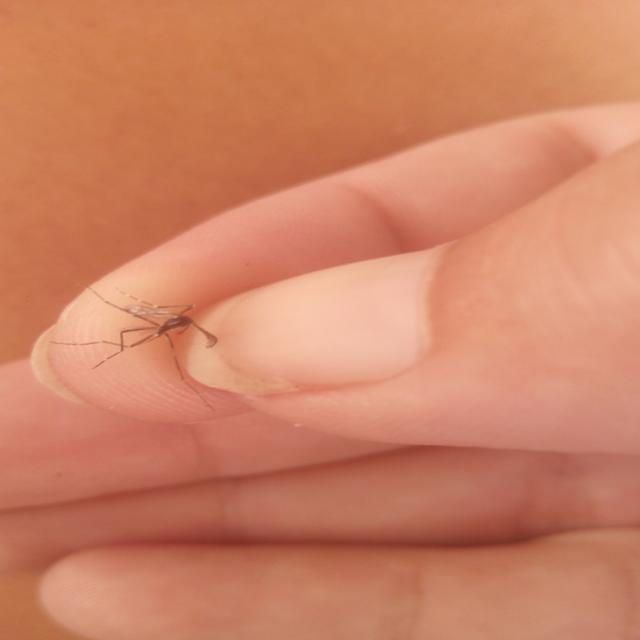albopictus: (55, 279, 225, 377)
